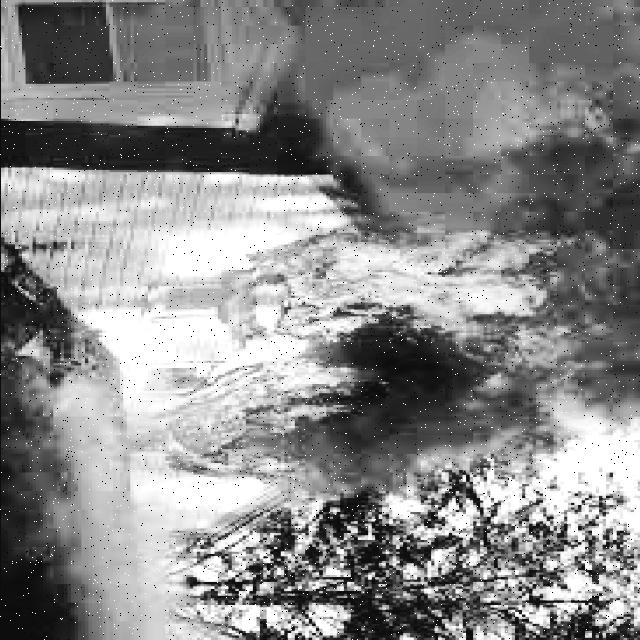api: (271, 211, 617, 385), (211, 358, 400, 518)
